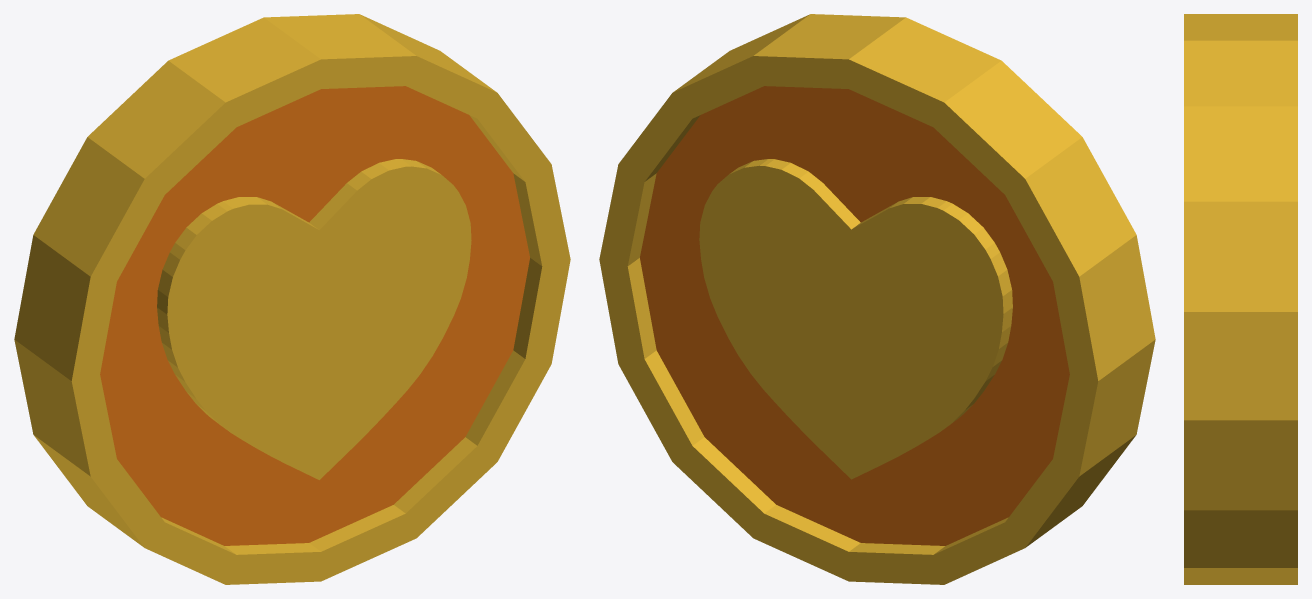
File: HeartCoin.fbx
The picture shows the model from 3 angles, left to right: view 1: azimuth 30°, elevation 25°; view 2: azimuth 150°, elevation 25°; view 3: azimuth 270°, elevation 25°; orthographic projection.
Parts seen in each view (by area): view 1: HeartCoin; view 2: HeartCoin; view 3: HeartCoin.
Part boxes in pixels (bbox=[...]): HeartCoin: bbox=[14, 14, 570, 584]; HeartCoin: bbox=[599, 14, 1155, 584]; HeartCoin: bbox=[1184, 14, 1297, 584].
Bounding box in the file's own units: 84.1 × 84.1 × 16.74.
